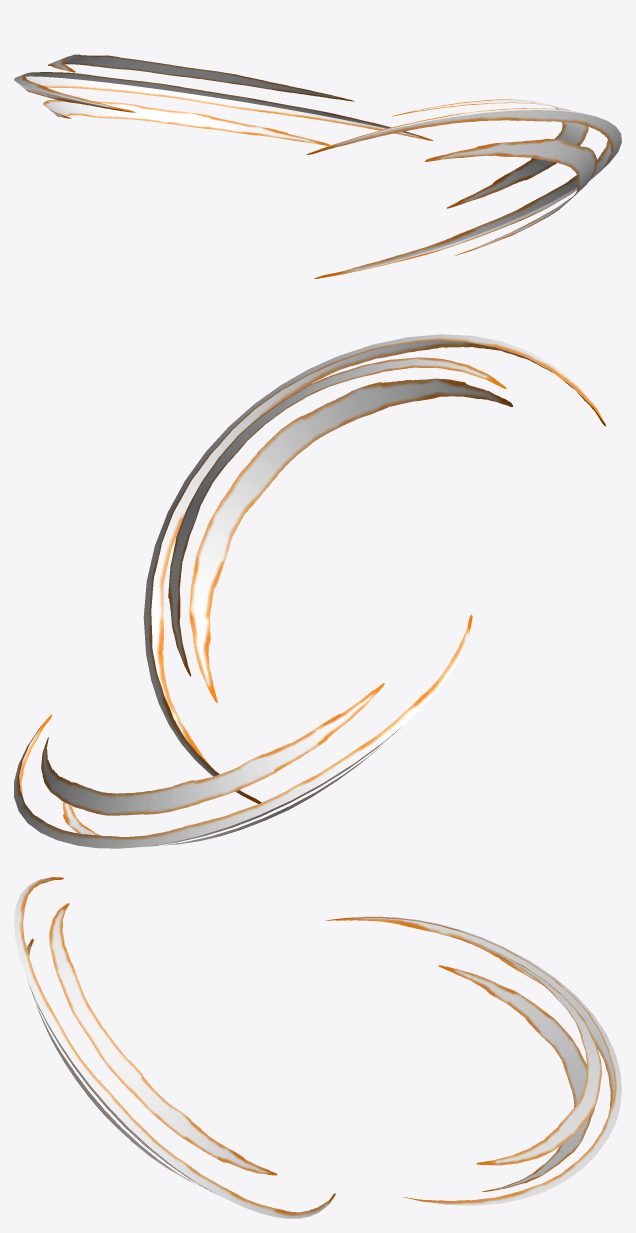
Rendered from fx_cookie0040_front_skill003.fbx.
The picture shows the model from 3 angles, top to bottom: view 1: azimuth 30°, elevation 25°; view 2: azimuth 150°, elevation 25°; view 3: azimuth 270°, elevation 25°; orthographic projection. The views are drawn at different scales.
Visible parts, largest first — view 1: L_scratch, L_Slash; view 2: L_Slash, L_scratch; view 3: L_scratch, L_Slash.
Boxes of the visible parts, <box> form: L_scratch: <box>14,54,432,145</box>; L_Slash: <box>306,99,621,278</box>; L_Slash: <box>143,334,606,803</box>; L_scratch: <box>14,615,472,848</box>; L_scratch: <box>326,916,621,1205</box>; L_Slash: <box>14,877,335,1218</box>.
Size of the model in its own units: 953 by 682 by 1382.
1 material, 1 textured.
